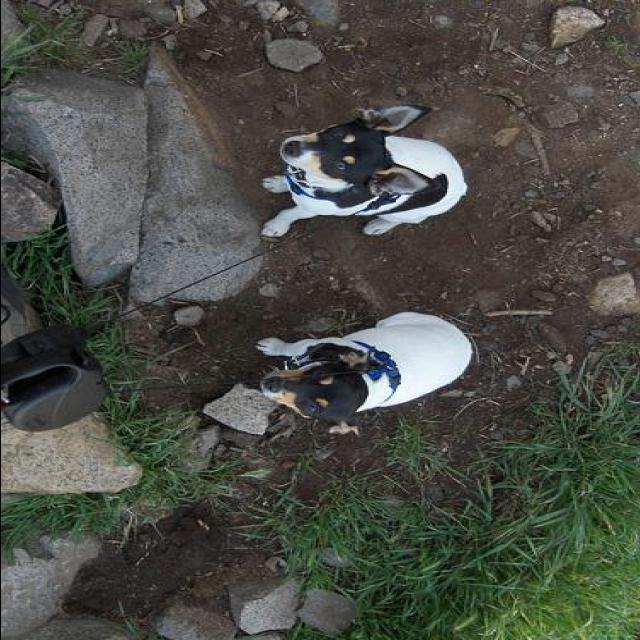toy_terrier: (250, 310, 474, 438), (259, 105, 470, 238)
